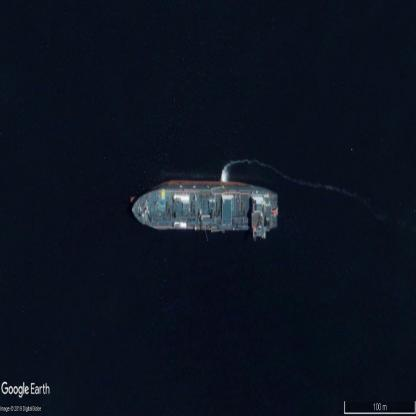ship: (131, 181, 279, 240)
